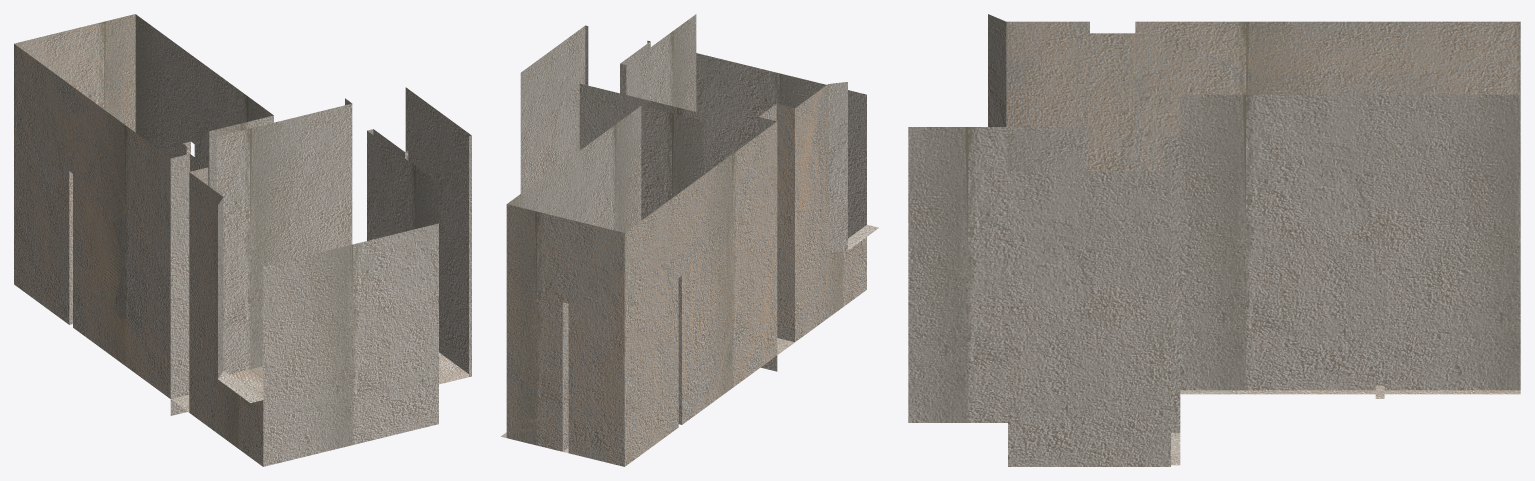
The model's file is COM011.obj.
The picture shows the model from 3 angles, left to right: view 1: azimuth 30°, elevation 25°; view 2: azimuth 150°, elevation 25°; view 3: azimuth 270°, elevation 25°; orthographic projection. The views are drawn at different scales.
Parts seen in each view (by area): view 1: Mesh121 COM011 Model, Mesh122 COM011 Model; view 2: Mesh121 COM011 Model, Mesh122 COM011 Model; view 3: Mesh121 COM011 Model, Mesh122 COM011 Model.
Boxes of the visible parts, x1,y1,x2,y2 form: Mesh121 COM011 Model: (14, 14, 471, 466); Mesh122 COM011 Model: (216, 98, 352, 374); Mesh121 COM011 Model: (501, 14, 878, 466); Mesh122 COM011 Model: (572, 83, 711, 174); Mesh121 COM011 Model: (908, 14, 1520, 466); Mesh122 COM011 Model: (1162, 137, 1180, 432).
Size of the model in its own units: 4.1 by 3.85 by 6.76.
5 materials, 2 textured.
